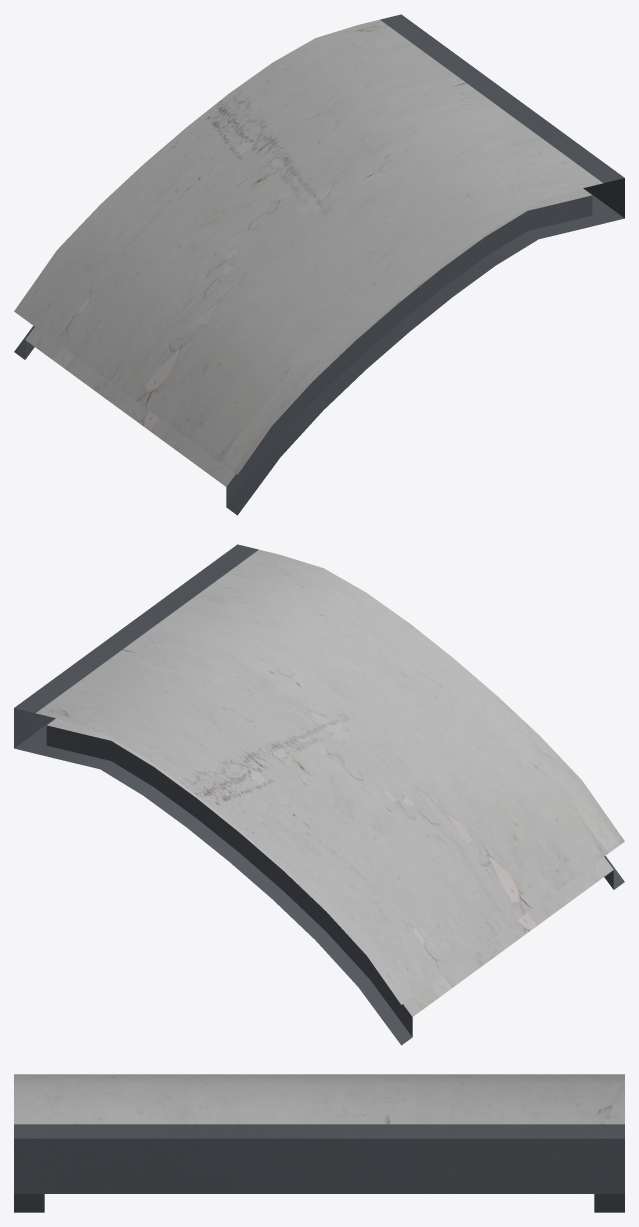
Rendered from RoofCurved.glb.
3 views of the same model, one above another, from view 1: azimuth 30°, elevation 25°; view 2: azimuth 150°, elevation 25°; view 3: azimuth 270°, elevation 25° (orthographic). The views are drawn at different scales.
Parts seen in each view (by area): view 1: RoofCurved; view 2: RoofCurved; view 3: RoofCurved.
Boxes of the visible parts, x1,y1,x2,y2 form: RoofCurved: [14, 14, 624, 515]; RoofCurved: [14, 544, 624, 1045]; RoofCurved: [14, 1074, 624, 1212].
Size of the model in its own units: 8 by 4.8 by 8.
Materials: 2 (2 with a texture image).
